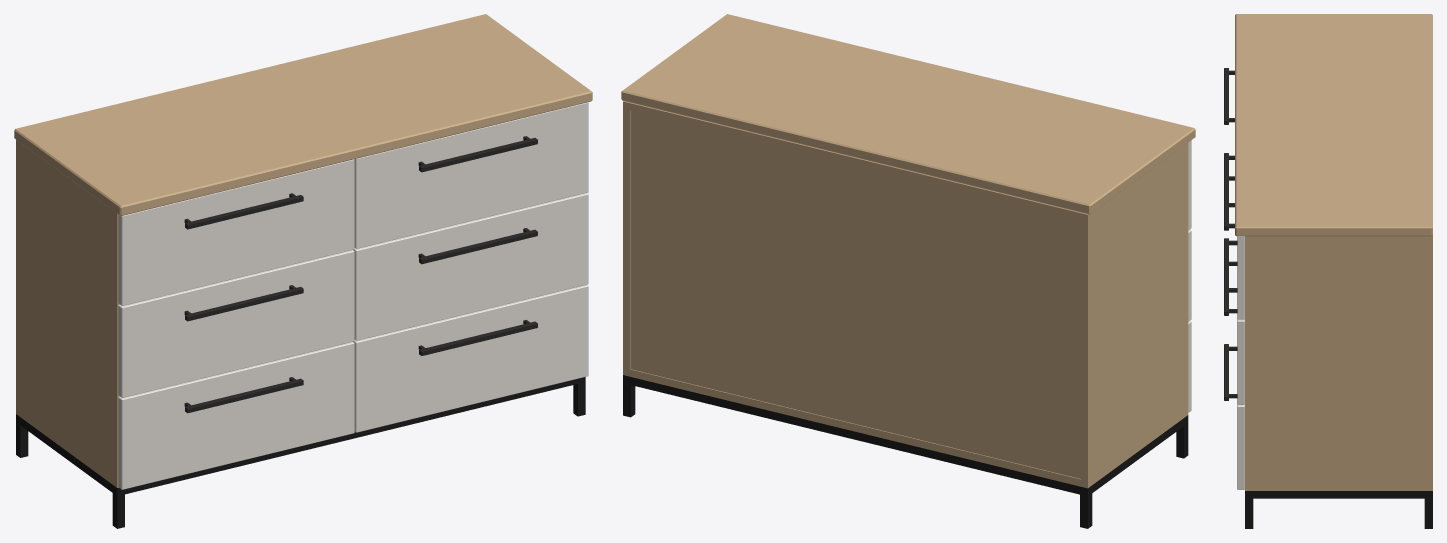
The model's file is 15_komoda_120_2x3.glb.
The picture shows the model from 3 angles, left to right: view 1: azimuth 30°, elevation 25°; view 2: azimuth 150°, elevation 25°; view 3: azimuth 270°, elevation 25°; orthographic projection. The views are drawn at different scales.
Visible parts, largest first — view 1: Wierzch, Korpus, Front_szuflada_2, Front_szuflada_3, Front_szuflada_5, Front_szuflada_6, Front_szuflada_1, Front_szuflada_4, Uchwyty, Rama; view 2: Korpus, Wierzch, Rama; view 3: Korpus, Wierzch, Rama, Uchwyty, Front_szuflada_5, Front_szuflada_6, Front_szuflada_4.
Boxes of the visible parts, <box> form: Wierzch: <box>14,14,592,215</box>; Korpus: <box>16,139,119,487</box>; Front_szuflada_2: <box>118,250,354,397</box>; Front_szuflada_3: <box>118,342,354,489</box>; Front_szuflada_5: <box>353,193,588,340</box>; Front_szuflada_6: <box>353,284,588,432</box>; Front_szuflada_1: <box>118,159,354,305</box>; Front_szuflada_4: <box>354,102,588,248</box>; Uchwyty: <box>184,136,537,413</box>; Rama: <box>16,377,585,528</box>; Korpus: <box>623,101,1188,488</box>; Wierzch: <box>621,14,1195,214</box>; Rama: <box>623,375,1188,528</box>; Korpus: <box>1245,235,1432,490</box>; Wierzch: <box>1235,14,1432,236</box>; Rama: <box>1245,491,1432,528</box>; Uchwyty: <box>1224,68,1237,400</box>; Front_szuflada_5: <box>1237,319,1244,404</box>; Front_szuflada_6: <box>1237,404,1244,489</box>; Front_szuflada_4: <box>1237,236,1244,319</box>.
Bounding box in the file's own units: 1.21 × 0.8 × 0.5.
